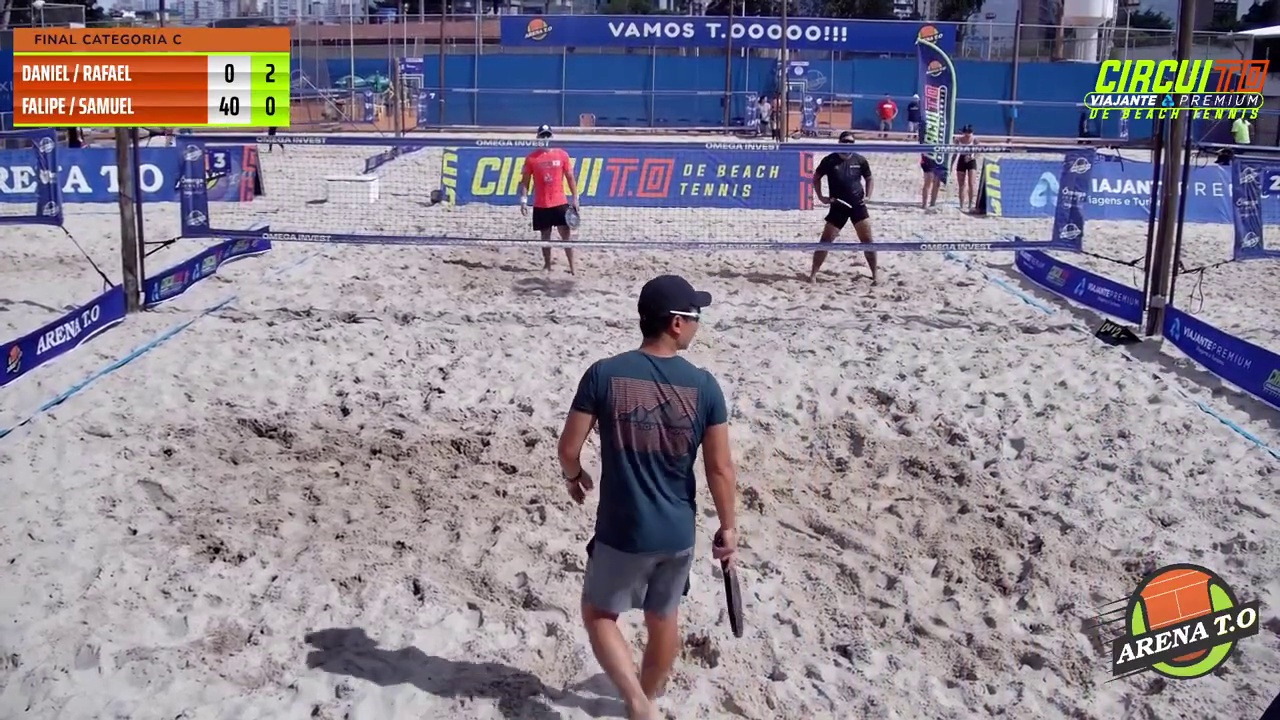court_line: (641, 0, 797, 288)
